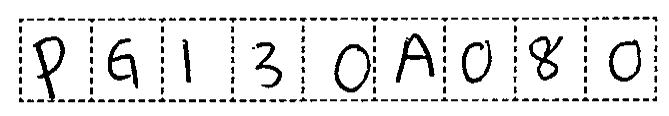0: (601, 33, 645, 86), (331, 40, 373, 95), (453, 36, 497, 88)
1: (170, 34, 208, 92)
3: (245, 35, 289, 93)
8: (522, 30, 570, 86)
A: (392, 30, 438, 86)
G: (100, 30, 150, 92)
P: (26, 31, 76, 98)
